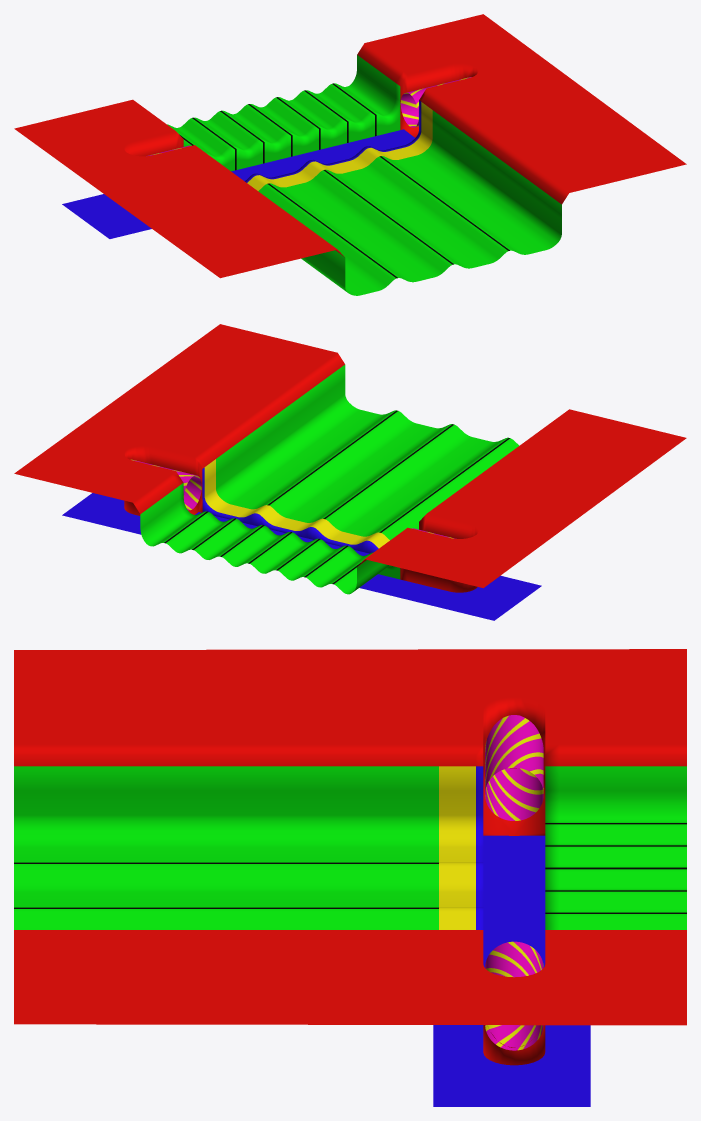
The model's file is Decor.fbx.
3 renders of one model, top to bottom at view 1: azimuth 30°, elevation 25°; view 2: azimuth 150°, elevation 25°; view 3: azimuth 270°, elevation 25°, orthographic. The views are drawn at different scales.
Visible parts, largest first — view 1: Decor.001; view 2: Decor.001; view 3: Decor.001.
Boxes of the visible parts, x1,y1,x2,y2 form: Decor.001: (14, 14, 686, 295); Decor.001: (14, 324, 686, 620); Decor.001: (14, 649, 686, 1106).
Size of the model in its own units: 5028 by 600 by 3800.
